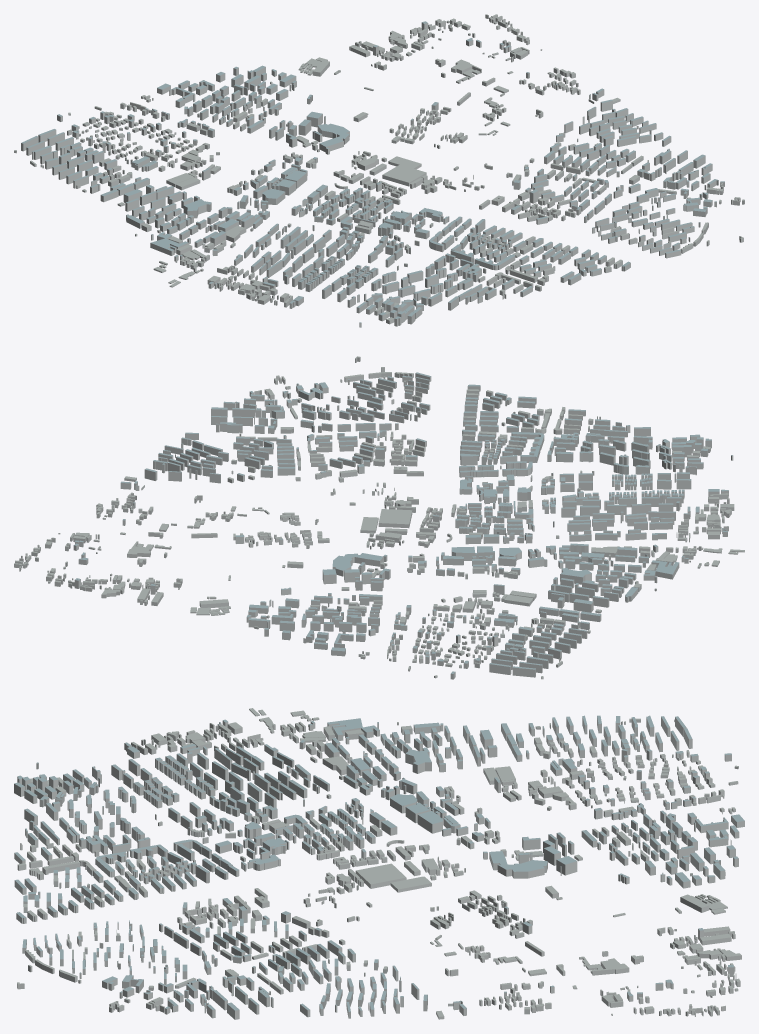
File: far.glb
3 views of the same model, one above another, from view 1: azimuth 30°, elevation 25°; view 2: azimuth 150°, elevation 25°; view 3: azimuth 270°, elevation 25° (orthographic). The views are drawn at different scales.
Bounding box in the file's own units: 2133 × 40.26 × 2120.
